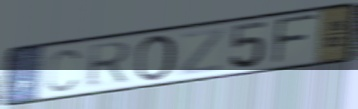5: (230, 19, 270, 70)
C: (46, 47, 82, 94)
F: (271, 12, 320, 66)
O: (133, 33, 177, 84)
R: (85, 40, 134, 90)
Z: (177, 25, 228, 78)
